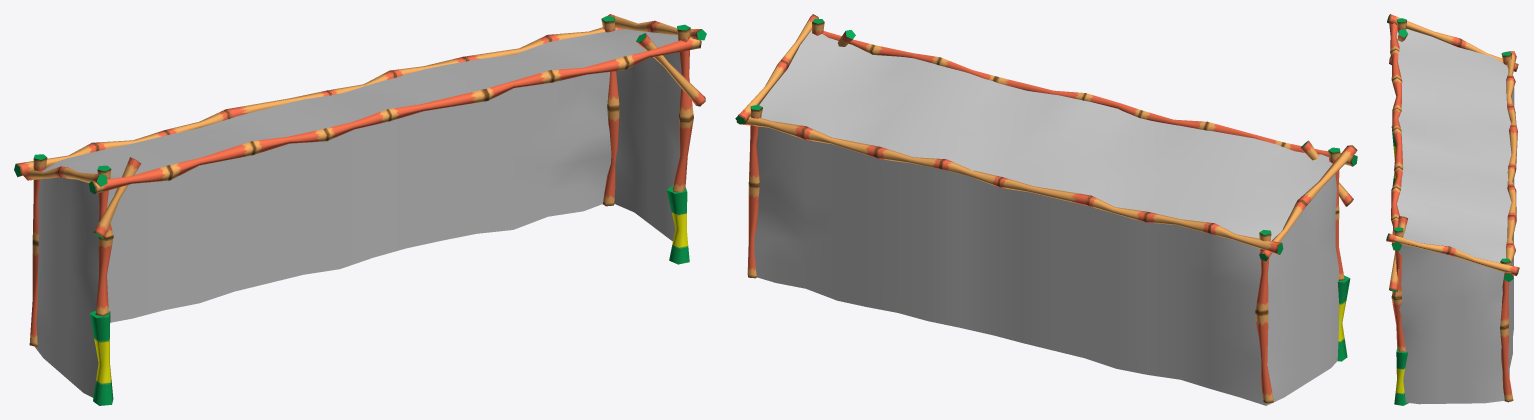
Rendered from ARCO PLAYA.FBX.
3 views of the same model, side by side, from view 1: azimuth 30°, elevation 25°; view 2: azimuth 150°, elevation 25°; view 3: azimuth 270°, elevation 25° (orthographic). The views are drawn at different scales.
Parts seen in each view (by area): view 1: red PLAYA, arco PLAYA; view 2: red PLAYA, arco PLAYA; view 3: red PLAYA, arco PLAYA.
Part boxes in pixels (bbox=[...]): red PLAYA: bbox=[34, 29, 681, 397]; arco PLAYA: bbox=[14, 14, 706, 405]; red PLAYA: bbox=[754, 30, 1338, 405]; arco PLAYA: bbox=[735, 14, 1357, 403]; red PLAYA: bbox=[1396, 29, 1514, 404]; arco PLAYA: bbox=[1386, 14, 1519, 405].
Bounding box in the file's own units: 702 × 257 × 178.
